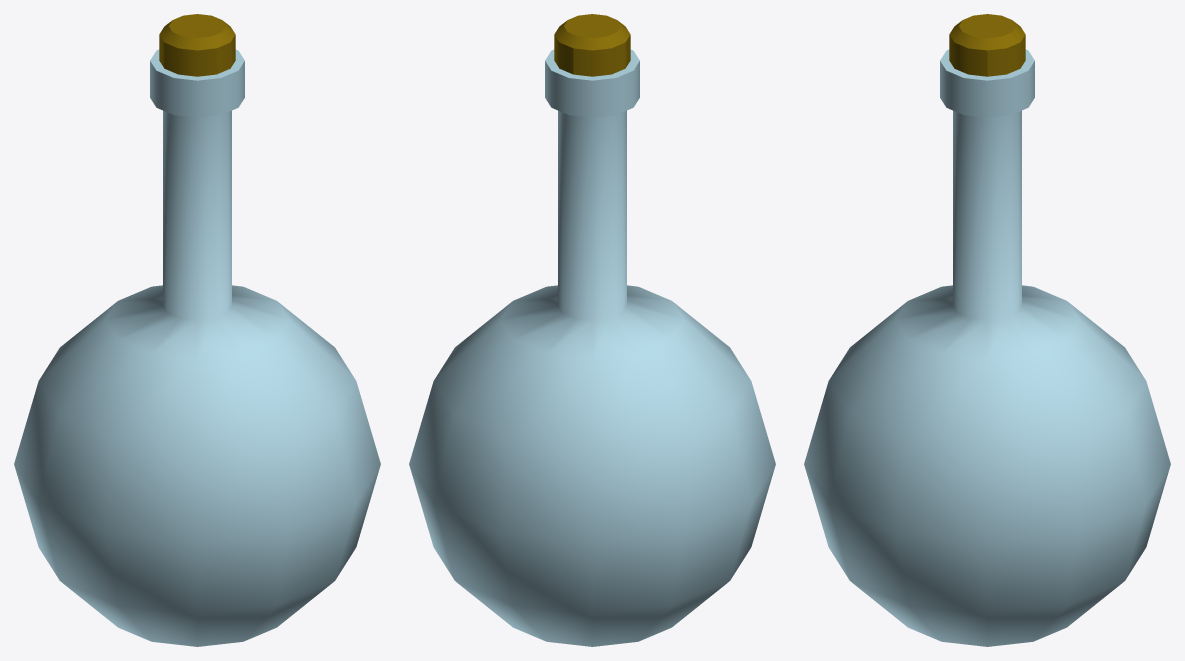
File: Bottle_v1_001.fbx
3 views of the same model, side by side, from view 1: azimuth 30°, elevation 25°; view 2: azimuth 150°, elevation 25°; view 3: azimuth 270°, elevation 25° (orthographic).
Parts seen in each view (by area): view 1: Bottle_v1_001; view 2: Bottle_v1_001; view 3: Bottle_v1_001.
Part boxes in pixels (<box>): Bottle_v1_001: <box>14,14,380,646</box>; Bottle_v1_001: <box>409,14,775,646</box>; Bottle_v1_001: <box>804,14,1170,646</box>.
Bounding box in the file's own units: 36.69 × 66.67 × 36.69.
